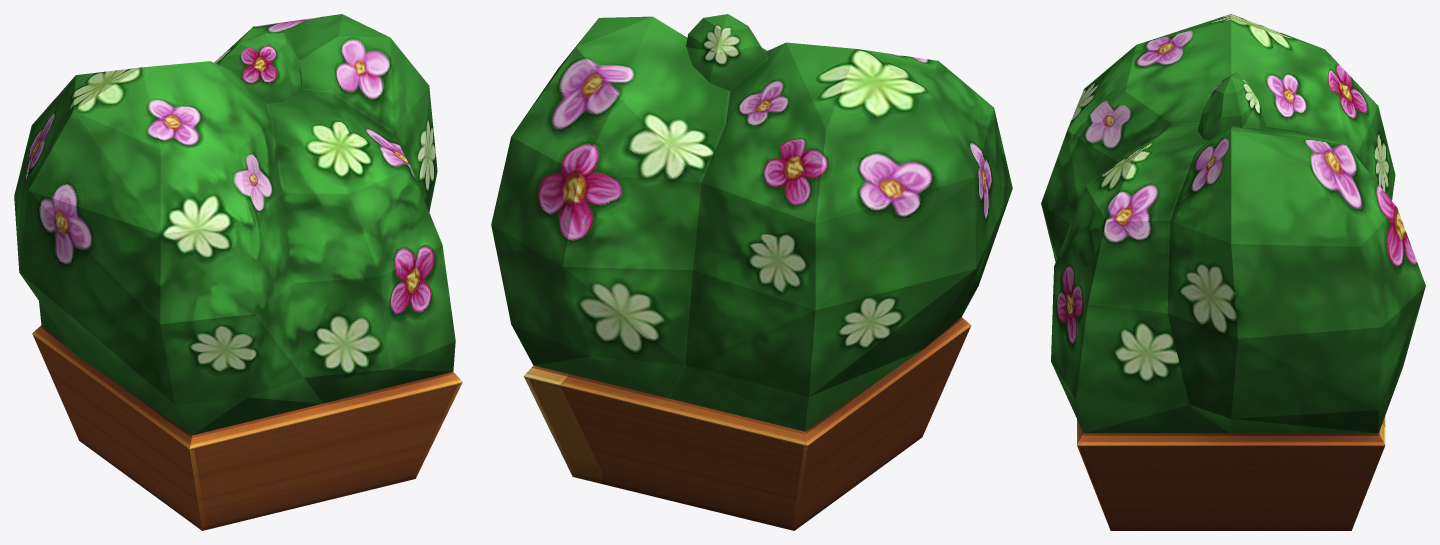
Rendered from fence_004_02.FBX.
3 views of the same model, side by side, from view 1: azimuth 30°, elevation 25°; view 2: azimuth 150°, elevation 25°; view 3: azimuth 270°, elevation 25° (orthographic). The views are drawn at different scales.
Visible parts, largest first — view 1: fence_004_02; view 2: fence_004_02; view 3: fence_004_02.
Boxes of the visible parts, x1,y1,x2,y2 form: fence_004_02: [14, 14, 462, 530]; fence_004_02: [491, 14, 1012, 530]; fence_004_02: [1041, 14, 1425, 530].
Size of the model in its own units: 783 by 756 by 639.
